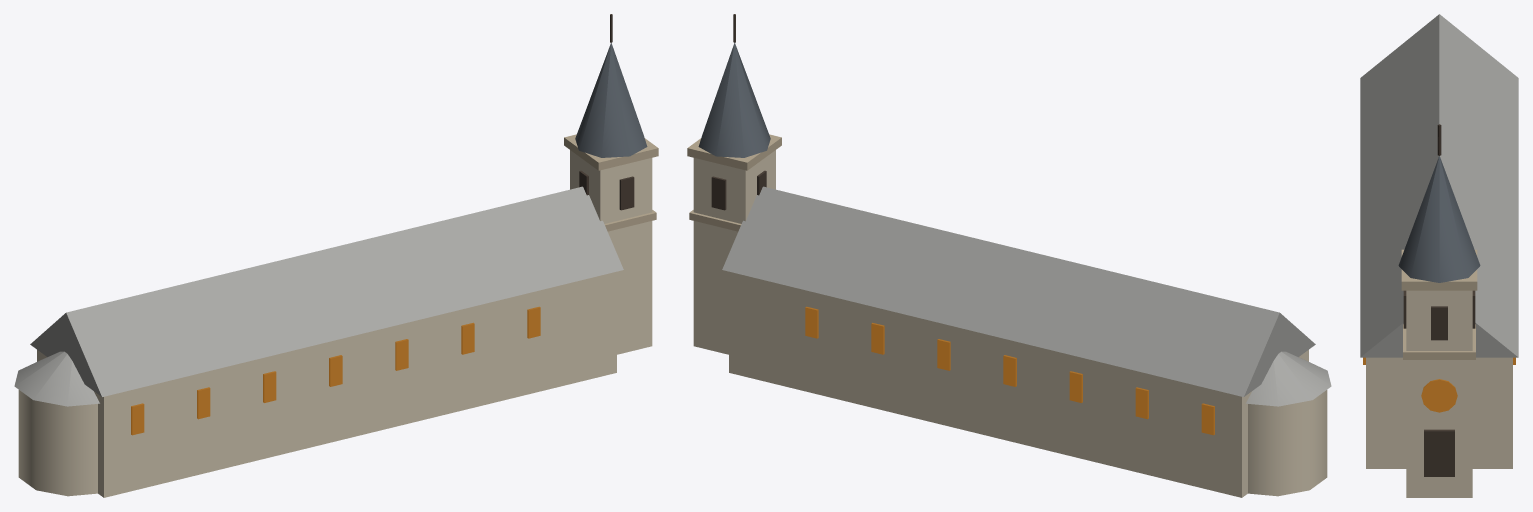
Rendered from eglise.glb.
The picture shows the model from 3 angles, left to right: view 1: azimuth 30°, elevation 25°; view 2: azimuth 150°, elevation 25°; view 3: azimuth 270°, elevation 25°; orthographic projection. The views are drawn at different scales.
Parts seen in each view (by area): view 1: Église; view 2: Église; view 3: Église.
Boxes of the visible parts, <box> form: Église: <box>14,14,658,497</box>; Église: <box>687,14,1331,497</box>; Église: <box>1360,14,1518,497</box>.
Size of the model in its own units: 56.3 by 28.38 by 11.34.
